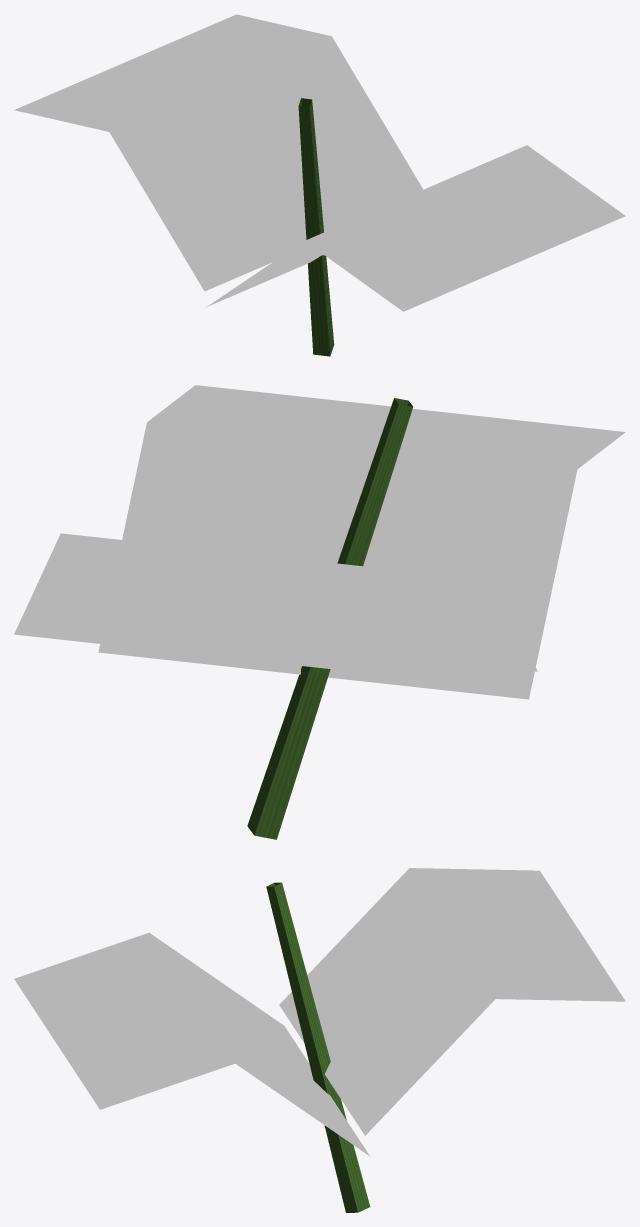
Rendered from plant_0_2_0.obj.
The picture shows the model from 3 angles, top to bottom: view 1: azimuth 30°, elevation 25°; view 2: azimuth 150°, elevation 25°; view 3: azimuth 270°, elevation 25°; orthographic projection. The views are drawn at different scales.
Parts seen in each view (by area): view 1: model; view 2: model; view 3: model.
Part boxes in pixels (x1,y1,x2,y2): model: (14,14,625,356); model: (14,385,625,839); model: (14,868,625,1212).
Bounding box in the file's own units: 0.2064 × 0.148 × 0.2733.
